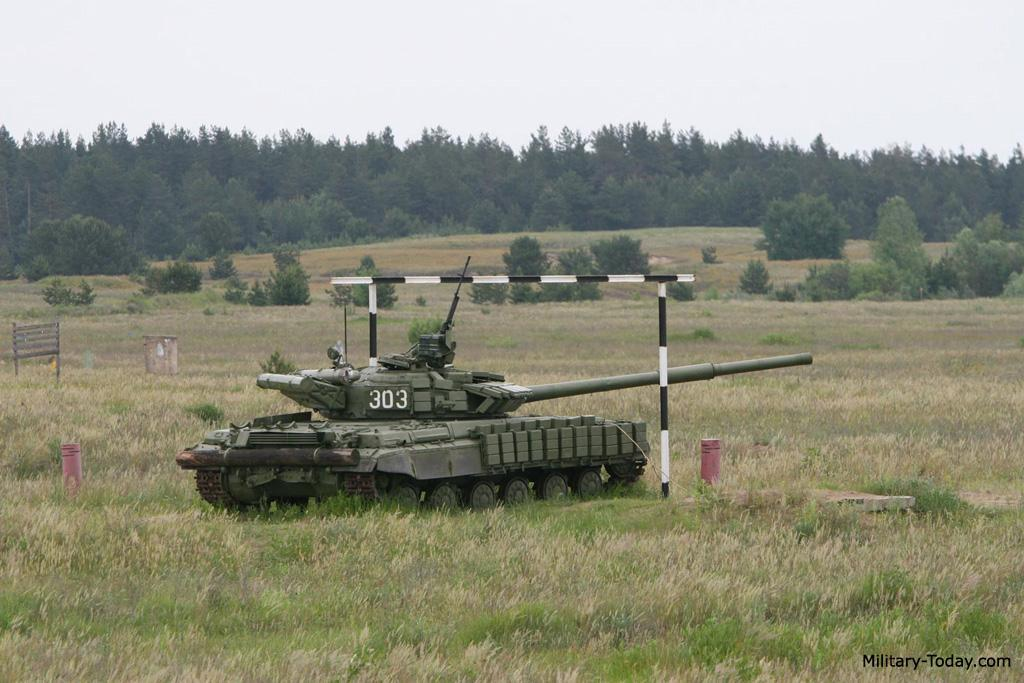tank: (172, 330, 816, 515)
